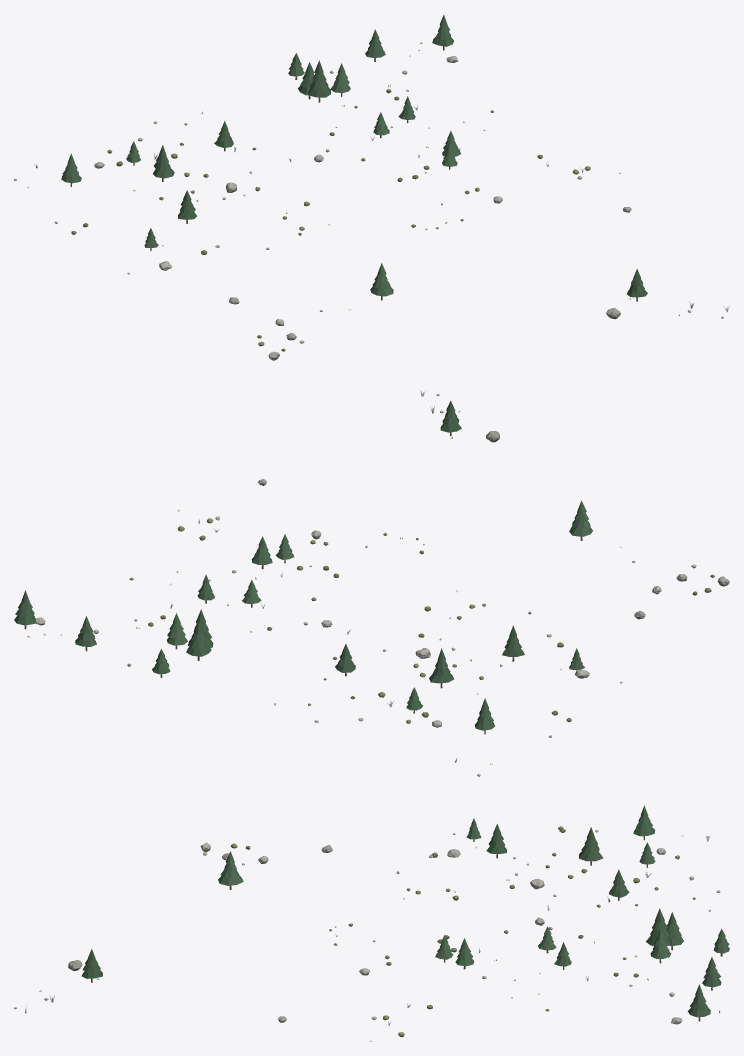
File: coast_land_scatter_c09_17.glb
The picture shows the model from 3 angles, top to bottom: view 1: azimuth 30°, elevation 25°; view 2: azimuth 150°, elevation 25°; view 3: azimuth 270°, elevation 25°; orthographic projection. The views are drawn at different scales.
Visible parts, largest first — view 1: coast_land_scatter_c09_17; view 2: coast_land_scatter_c09_17; view 3: coast_land_scatter_c09_17.
Part boxes in pixels (x1,y1,x2,y2): coast_land_scatter_c09_17: (14,14,729,360); coast_land_scatter_c09_17: (14,390,729,776); coast_land_scatter_c09_17: (14,805,729,1041).
Bounding box in the file's own units: 192 × 30.04 × 253.
